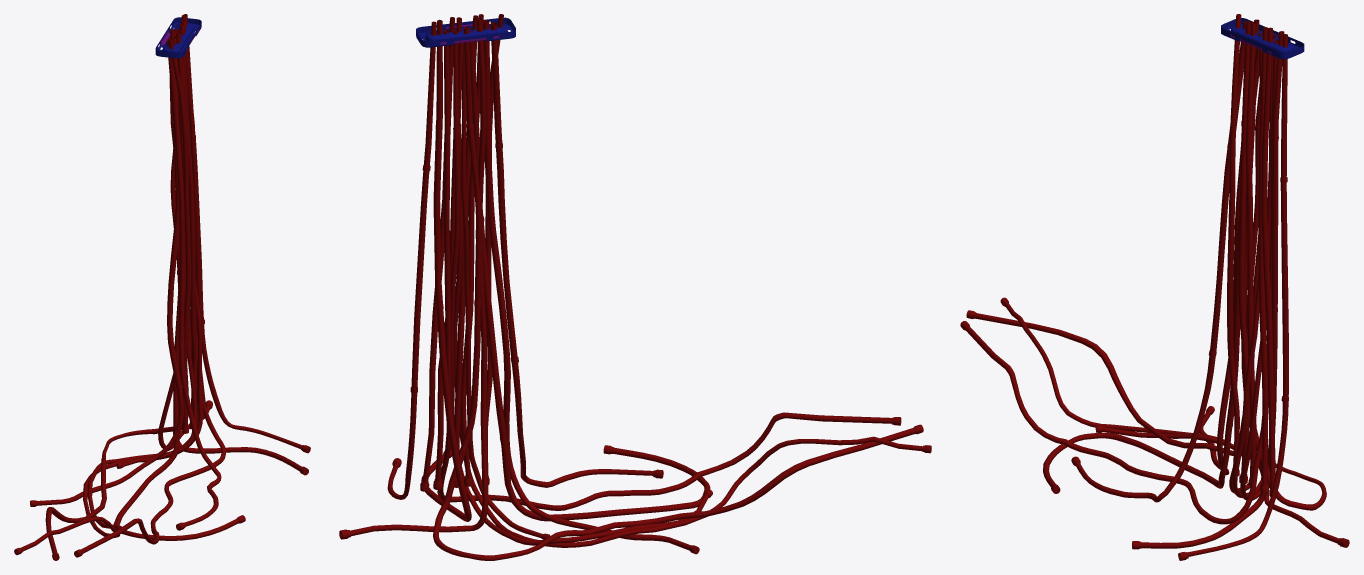
Rendered from Cable_Details_04.fbx.
The picture shows the model from 3 angles, left to right: view 1: azimuth 30°, elevation 25°; view 2: azimuth 150°, elevation 25°; view 3: azimuth 270°, elevation 25°; orthographic projection. The views are drawn at different scales.
Visible parts, largest first — view 1: Cable_Details_04; view 2: Cable_Details_04; view 3: Cable_Details_04.
Part boxes in pixels (box(x1,y1,x2,y2)): Cable_Details_04: box(14, 14, 310, 560); Cable_Details_04: box(339, 14, 931, 560); Cable_Details_04: box(960, 14, 1349, 560).
Size of the model in its own units: 300 by 329 by 238.
